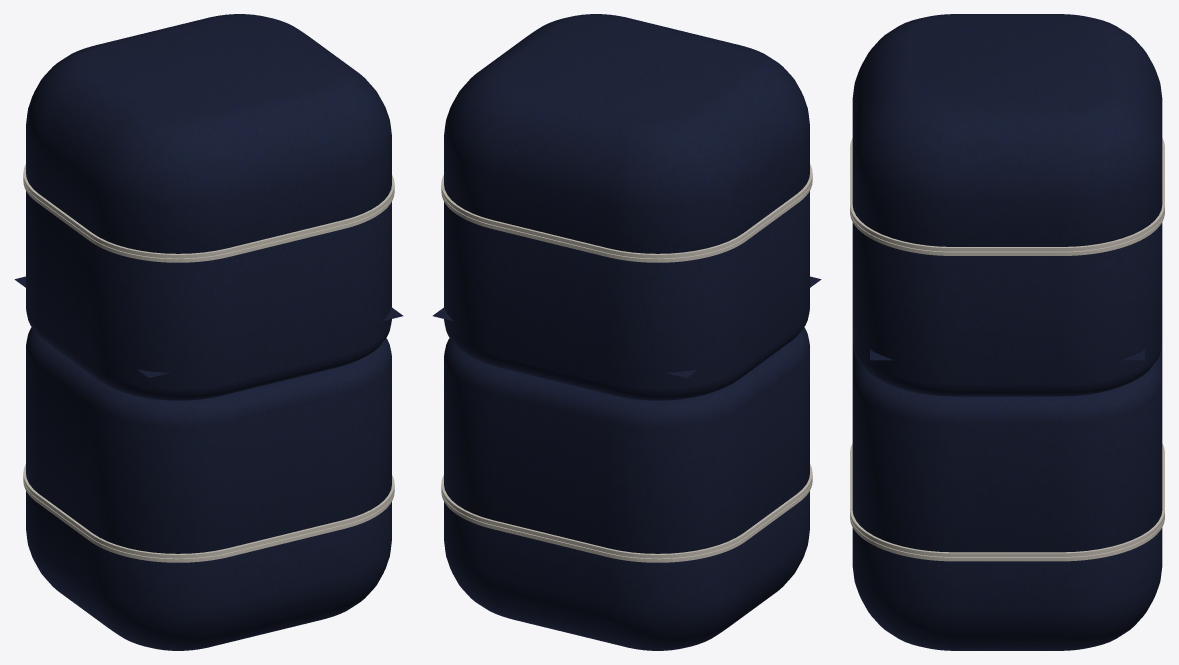
Rendered from ring.glb.
The picture shows the model from 3 angles, left to right: view 1: azimuth 30°, elevation 25°; view 2: azimuth 150°, elevation 25°; view 3: azimuth 270°, elevation 25°; orthographic projection.
Visible parts, largest first — view 1: LidShell, BaseShellM, BaseShell, LidShellM, Bead.001, BeadM, Bead, Bead.001M; view 2: LidShell, BaseShellM, BaseShell, LidShellM, Bead.001, BeadM, Bead, Bead.001M; view 3: LidShell, BaseShellM, BaseShell, LidShellM, Bead.001, BeadM, Bead, Bead.001M.
Part boxes in pixels (<box>): LidShell: <box>26,14,391,253</box>; BaseShellM: <box>26,327,391,553</box>; BaseShell: <box>26,191,391,400</box>; LidShellM: <box>26,491,391,650</box>; Bead.001: <box>23,164,394,258</box>; BeadM: <box>23,464,394,558</box>; Bead: <box>23,178,394,262</box>; Bead.001M: <box>23,478,394,562</box>; LidShell: <box>444,14,809,253</box>; BaseShellM: <box>444,327,809,553</box>; BaseShell: <box>444,191,809,400</box>; LidShellM: <box>444,491,809,650</box>; Bead.001: <box>441,164,812,258</box>; BeadM: <box>441,464,812,558</box>; Bead: <box>441,178,812,262</box>; Bead.001M: <box>441,478,812,562</box>; LidShell: <box>852,14,1162,246</box>; BaseShellM: <box>852,343,1162,552</box>; BaseShell: <box>852,222,1162,396</box>; LidShellM: <box>852,528,1162,650</box>; Bead.001: <box>850,138,1164,251</box>; BeadM: <box>850,443,1164,556</box>; Bead: <box>850,210,1164,255</box>; Bead.001M: <box>850,515,1164,561</box>.
Bounding box in the file's own units: 0.0507 × 0.0883 × 0.0468.
5 materials, 1 textured.
